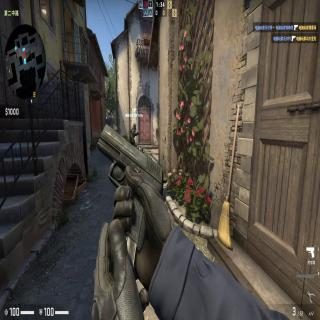CT-Head: (132, 123, 136, 129)
